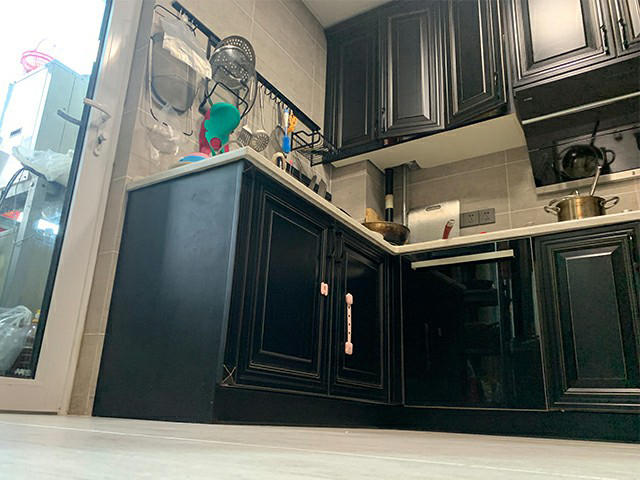cabinet: (91, 145, 396, 430), (398, 210, 640, 446)
